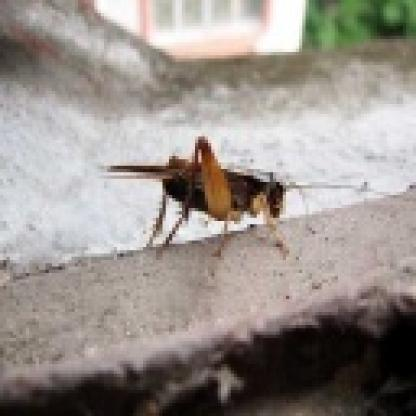grasshopper: (104, 134, 307, 244)
